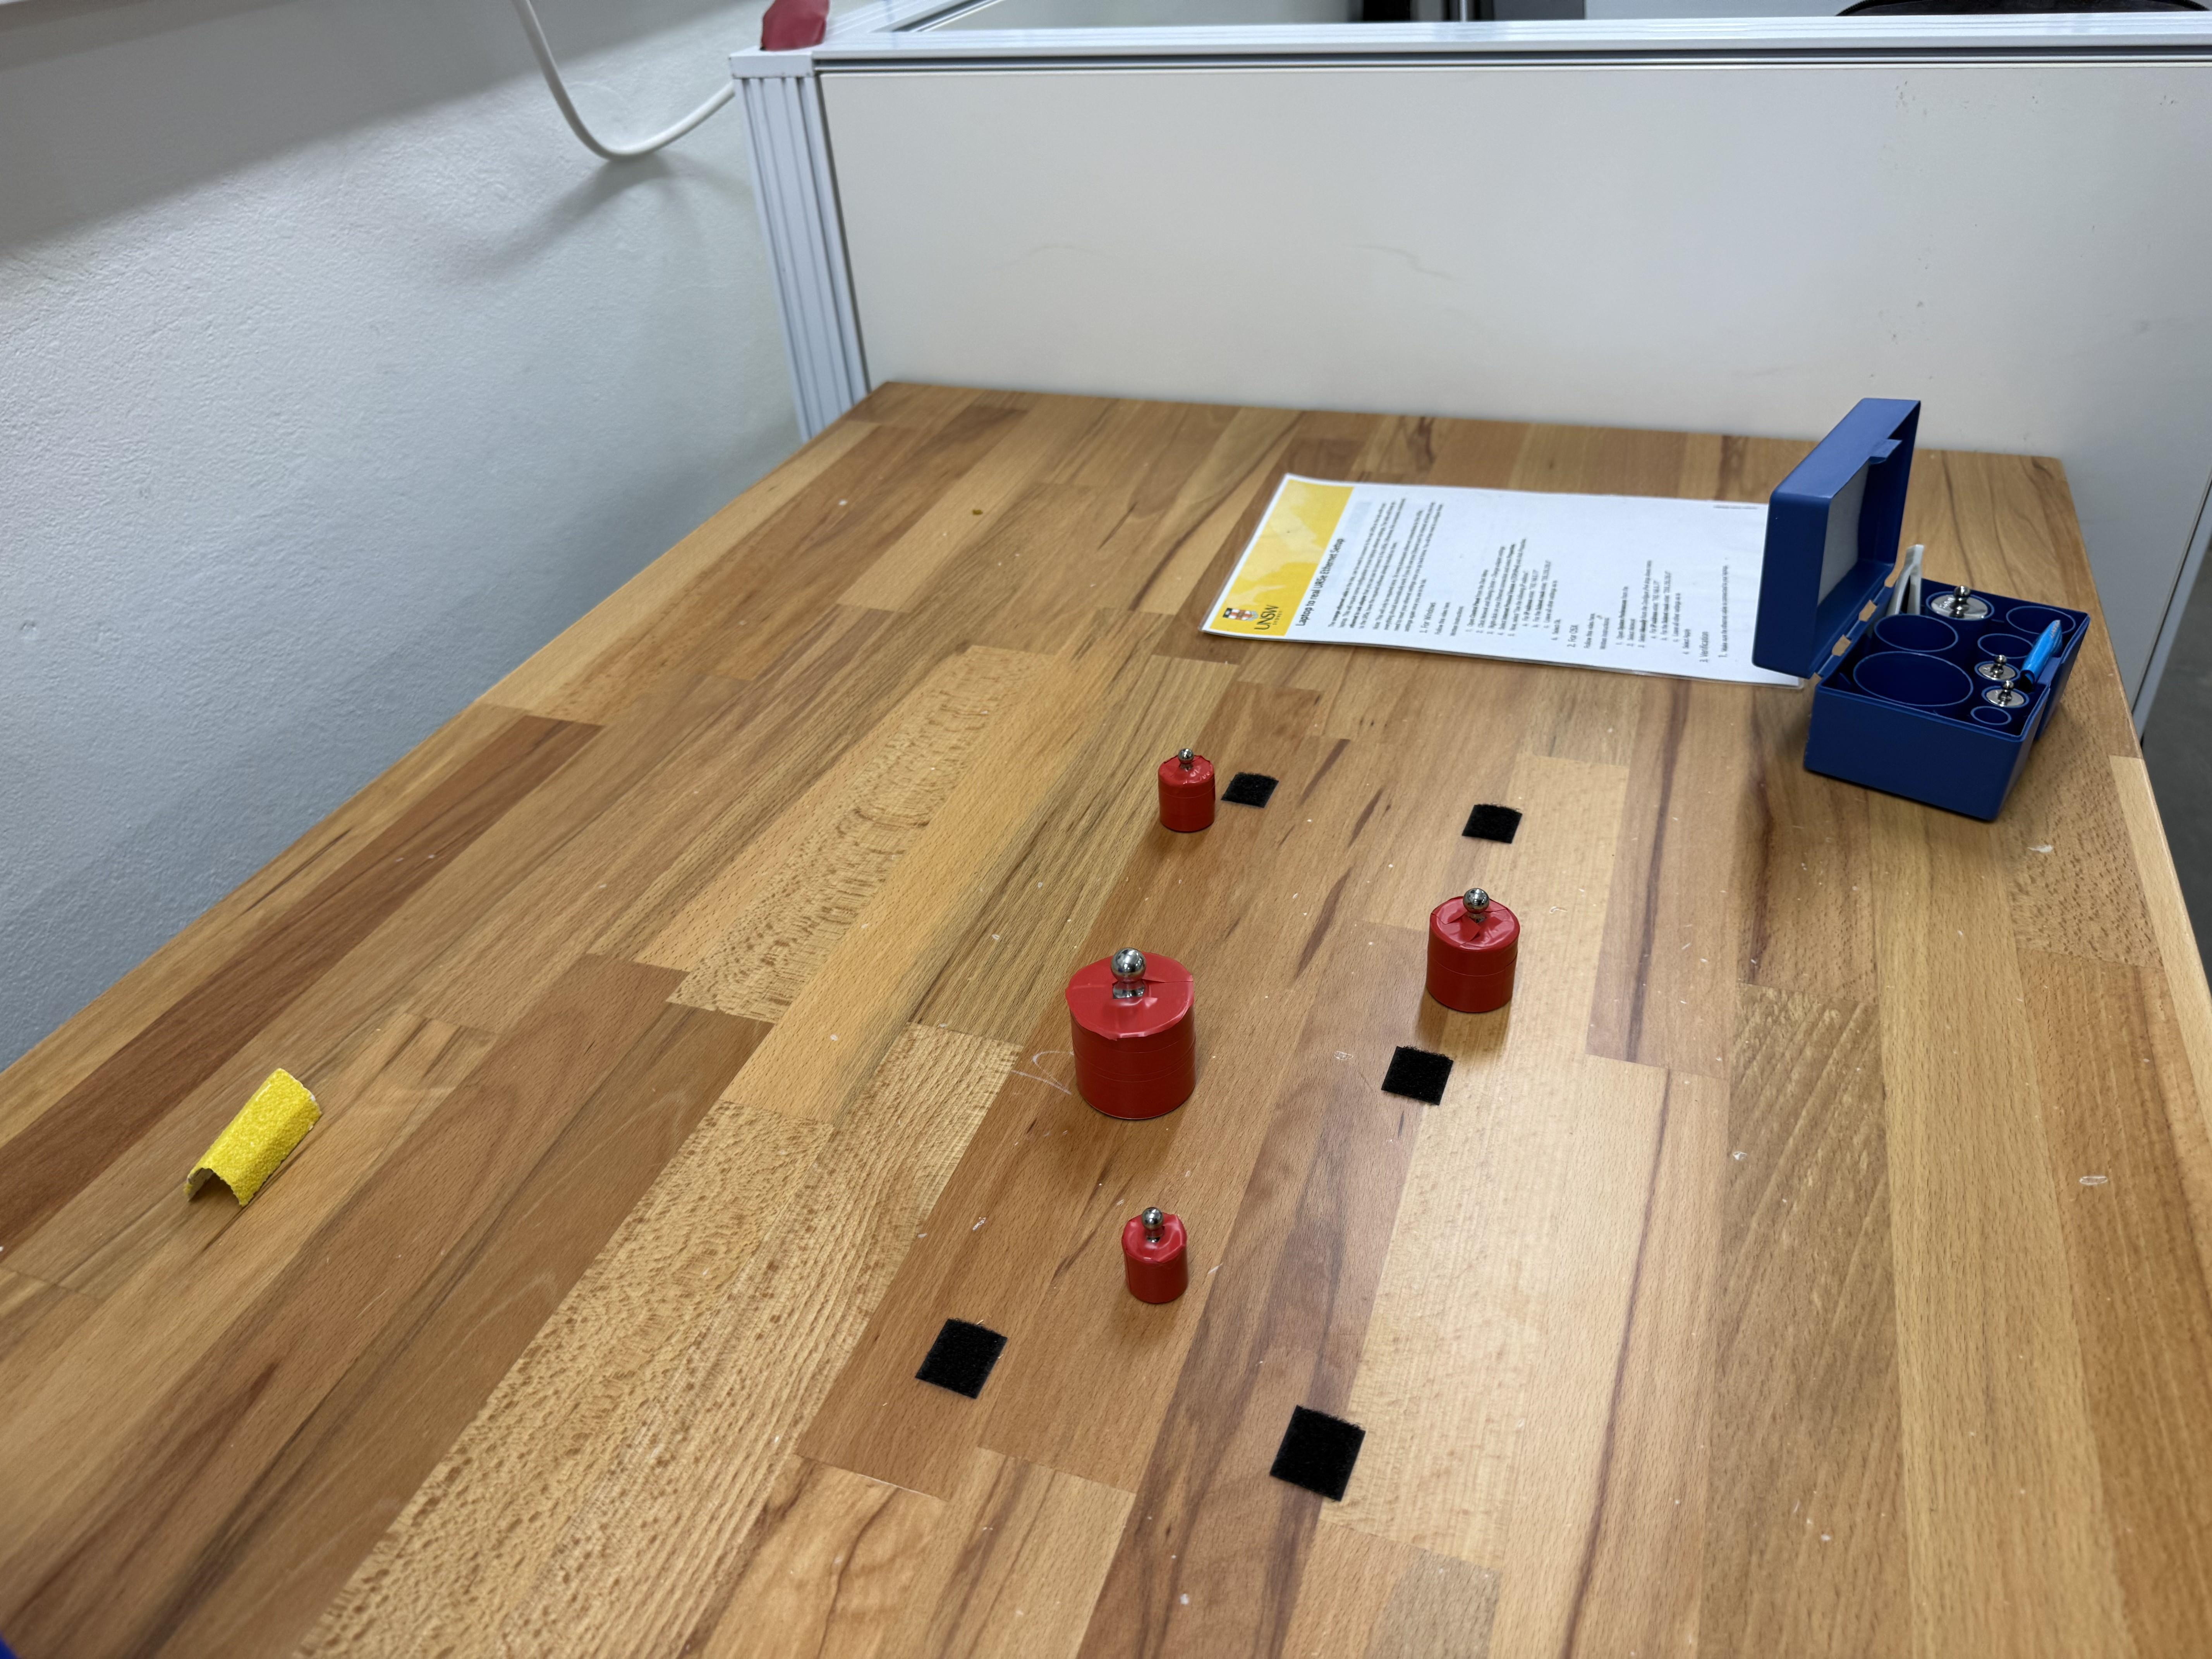red_object: (1061, 941, 1195, 1129), (1433, 887, 1514, 1018), (1143, 741, 1228, 850), (1120, 1194, 1191, 1297)
